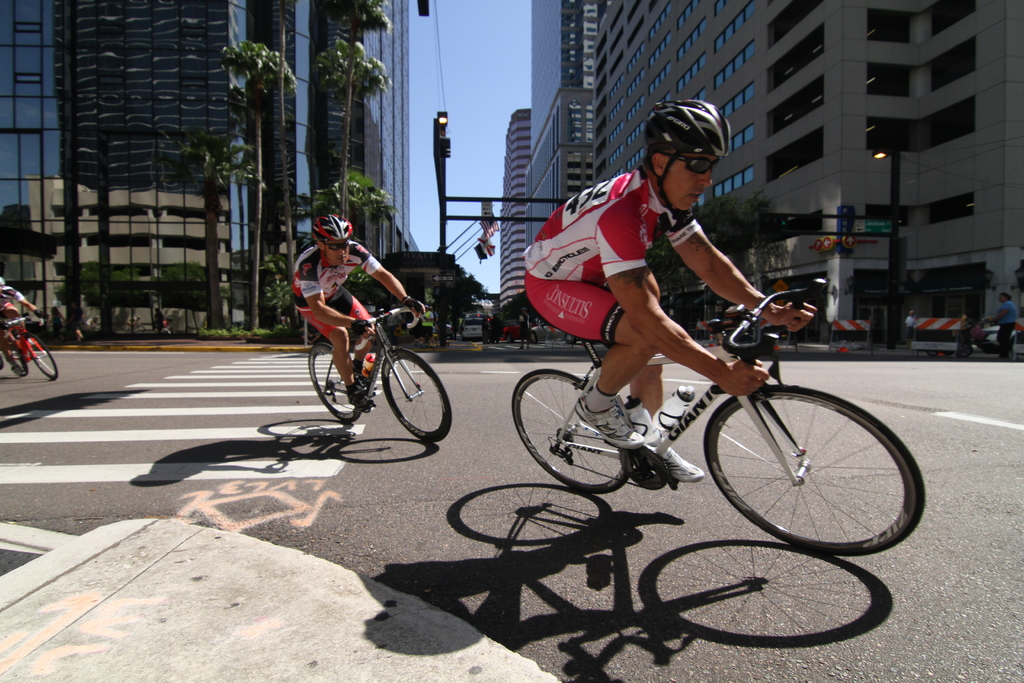Bike: (523, 273, 1004, 548)
